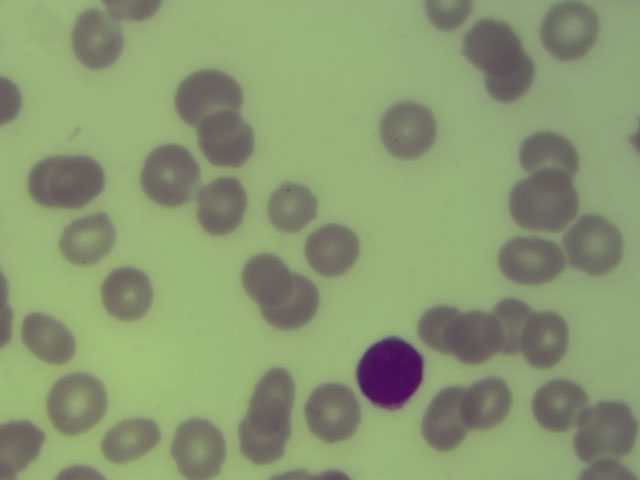RBC: (507, 166, 579, 231), (308, 383, 382, 442), (172, 70, 247, 122), (497, 232, 567, 286), (169, 418, 233, 476), (46, 373, 108, 432), (544, 2, 602, 64), (417, 385, 467, 454), (200, 112, 259, 169), (141, 149, 200, 206), (21, 310, 80, 367), (383, 103, 439, 162), (582, 402, 637, 462), (51, 153, 107, 208), (463, 20, 520, 74), (517, 132, 583, 177), (239, 255, 299, 304), (483, 56, 541, 106), (303, 224, 358, 275), (102, 270, 156, 321), (272, 275, 322, 330), (253, 364, 294, 430), (63, 216, 116, 267), (408, 303, 461, 354), (238, 410, 289, 463), (78, 11, 125, 68), (538, 376, 584, 434), (573, 219, 622, 273), (265, 183, 317, 233), (3, 419, 45, 480), (102, 417, 160, 461), (455, 311, 500, 365), (203, 179, 246, 234), (470, 375, 513, 429), (494, 297, 532, 355), (532, 312, 568, 368), (26, 159, 62, 206), (421, 1, 473, 31), (48, 455, 105, 480), (100, 1, 162, 19), (568, 464, 635, 480), (1, 76, 22, 126), (1, 306, 18, 350), (269, 470, 315, 480), (630, 113, 640, 154), (316, 469, 353, 480), (2, 270, 12, 304)
WBC: (357, 336, 424, 410)
